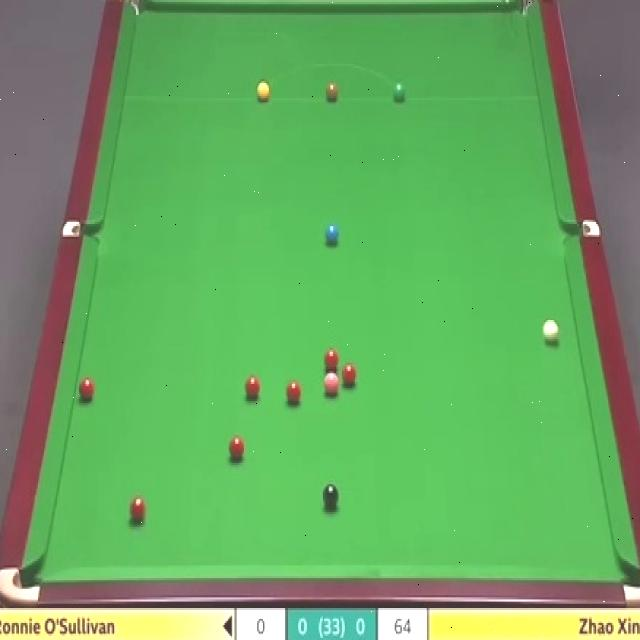black-ball: (322, 483, 339, 509)
blue-ball: (324, 225, 340, 243)
brown-ball: (326, 82, 338, 101)
green-ball: (392, 79, 407, 103)
pink-ball: (325, 373, 340, 396)
red-ball: (129, 495, 146, 521), (244, 375, 262, 399), (322, 348, 340, 371), (228, 436, 245, 460), (285, 381, 301, 402), (79, 378, 93, 402), (342, 366, 358, 386)
white-ball: (543, 318, 560, 344)
yellow-ball: (257, 81, 270, 103)
